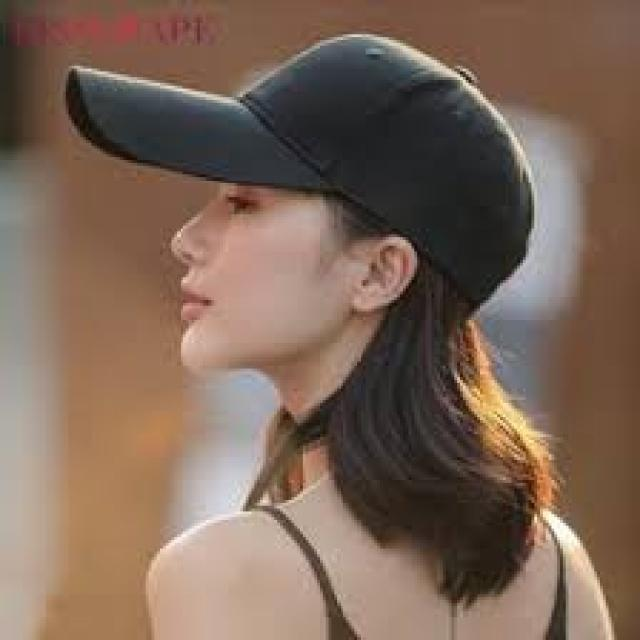cap: (40, 19, 567, 327)
